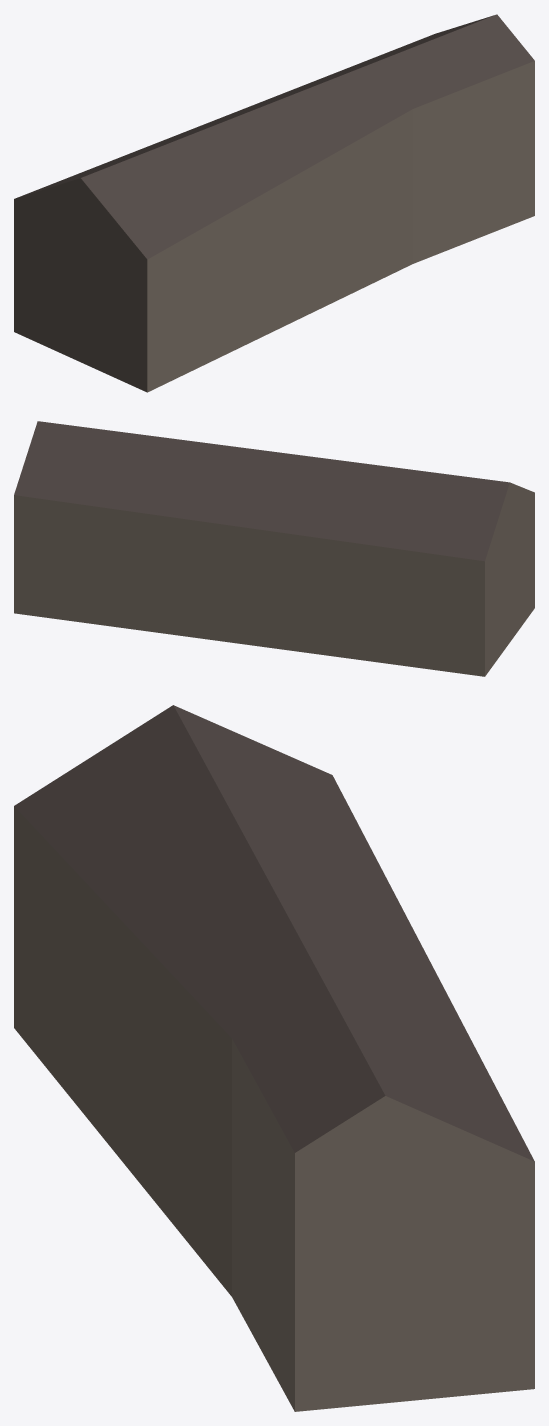
3 views of the same model, one above another, from view 1: azimuth 30°, elevation 25°; view 2: azimuth 150°, elevation 25°; view 3: azimuth 270°, elevation 25° (orthographic). The views are drawn at different scales.
Visible parts, largest first — view 1: HP-w490656164; view 2: HP-w490656164; view 3: HP-w490656164.
Part boxes in pixels (bbox=[...]): HP-w490656164: bbox=[14, 14, 534, 392]; HP-w490656164: bbox=[14, 421, 534, 676]; HP-w490656164: bbox=[14, 705, 534, 1411].
Bounding box in the file's own units: 36.08 × 12.47 × 19.15.
